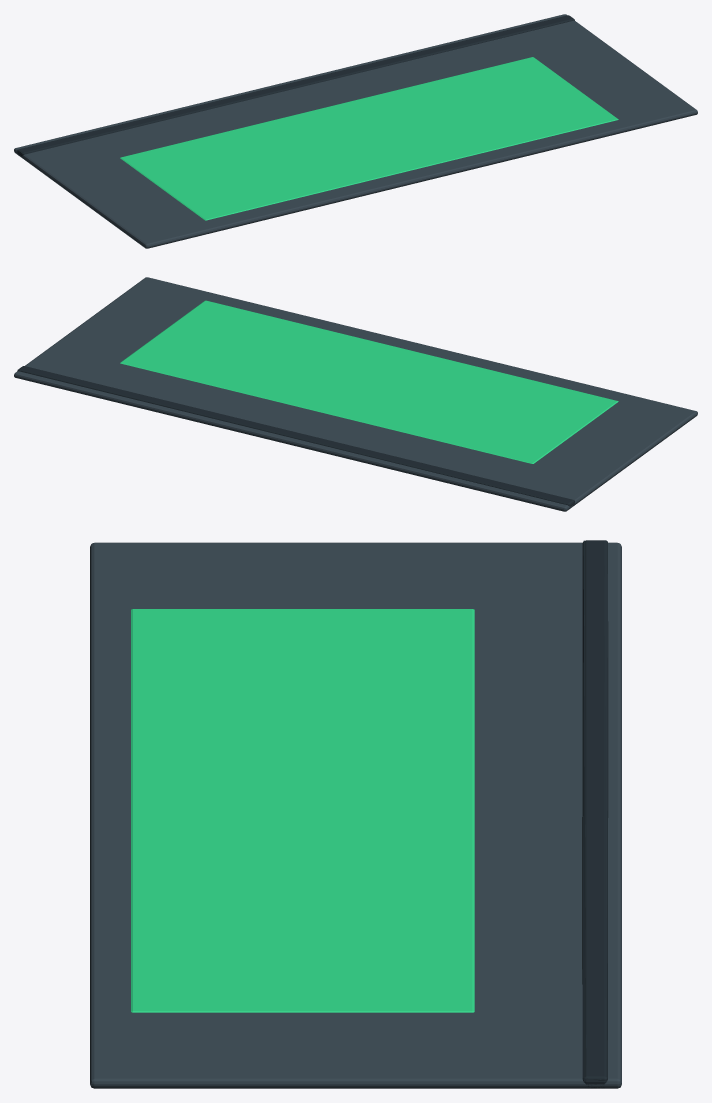
The model's file is CC_S16_P2_Architecture_EntranceThreshold_LOD0.fbx.
3 views of the same model, one above another, from view 1: azimuth 30°, elevation 25°; view 2: azimuth 150°, elevation 25°; view 3: azimuth 270°, elevation 25° (orthographic). The views are drawn at different scales.
Visible parts, largest first — view 1: CC_S16_P2_Architecture_EntranceThreshold_LOD0_Apron, CC_S16_P2_Architecture_EntranceThreshold_LOD0_Mat, CC_S16_P2_Architecture_EntranceThreshold_LOD0_MetalProfile, CC_S16_P2_Architecture_EntranceThreshold_LOD0_MetalProfile_L; view 2: CC_S16_P2_Architecture_EntranceThreshold_LOD0_Apron, CC_S16_P2_Architecture_EntranceThreshold_LOD0_Mat, CC_S16_P2_Architecture_EntranceThreshold_LOD0_MetalProfile, CC_S16_P2_Architecture_EntranceThreshold_LOD0_MetalProfile_L; view 3: CC_S16_P2_Architecture_EntranceThreshold_LOD0_Apron, CC_S16_P2_Architecture_EntranceThreshold_LOD0_Mat, CC_S16_P2_Architecture_EntranceThreshold_LOD0_MetalProfile, CC_S16_P2_Architecture_EntranceThreshold_LOD0_MetalProfile_L.
Part boxes in pixels (<box>): CC_S16_P2_Architecture_EntranceThreshold_LOD0_Apron: <box>14,14,697,248</box>; CC_S16_P2_Architecture_EntranceThreshold_LOD0_Mat: <box>120,57,618,220</box>; CC_S16_P2_Architecture_EntranceThreshold_LOD0_MetalProfile: <box>17,15,573,157</box>; CC_S16_P2_Architecture_EntranceThreshold_LOD0_MetalProfile_L: <box>17,15,574,156</box>; CC_S16_P2_Architecture_EntranceThreshold_LOD0_Apron: <box>14,277,697,511</box>; CC_S16_P2_Architecture_EntranceThreshold_LOD0_Mat: <box>120,300,618,463</box>; CC_S16_P2_Architecture_EntranceThreshold_LOD0_MetalProfile: <box>18,366,574,506</box>; CC_S16_P2_Architecture_EntranceThreshold_LOD0_MetalProfile_L: <box>17,370,574,508</box>; CC_S16_P2_Architecture_EntranceThreshold_LOD0_Apron: <box>90,542,621,1088</box>; CC_S16_P2_Architecture_EntranceThreshold_LOD0_Mat: <box>131,609,474,1012</box>; CC_S16_P2_Architecture_EntranceThreshold_LOD0_MetalProfile: <box>582,540,607,1088</box>; CC_S16_P2_Architecture_EntranceThreshold_LOD0_MetalProfile_L: <box>582,541,608,1088</box>.
Size of what is drawn, in the model's own units: 2.4 by 0.025 by 1.
